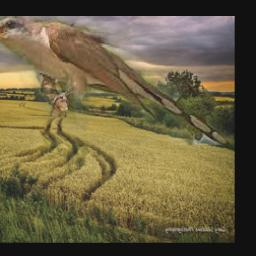Cuckoo: (0, 16, 232, 145)
